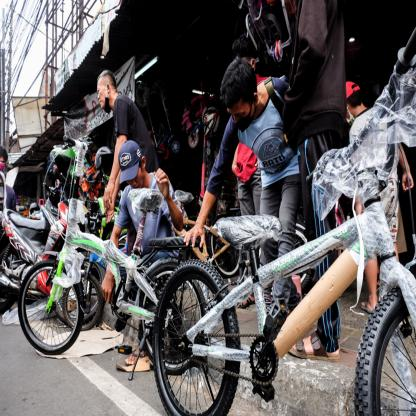Bike: (154, 91, 416, 416)
